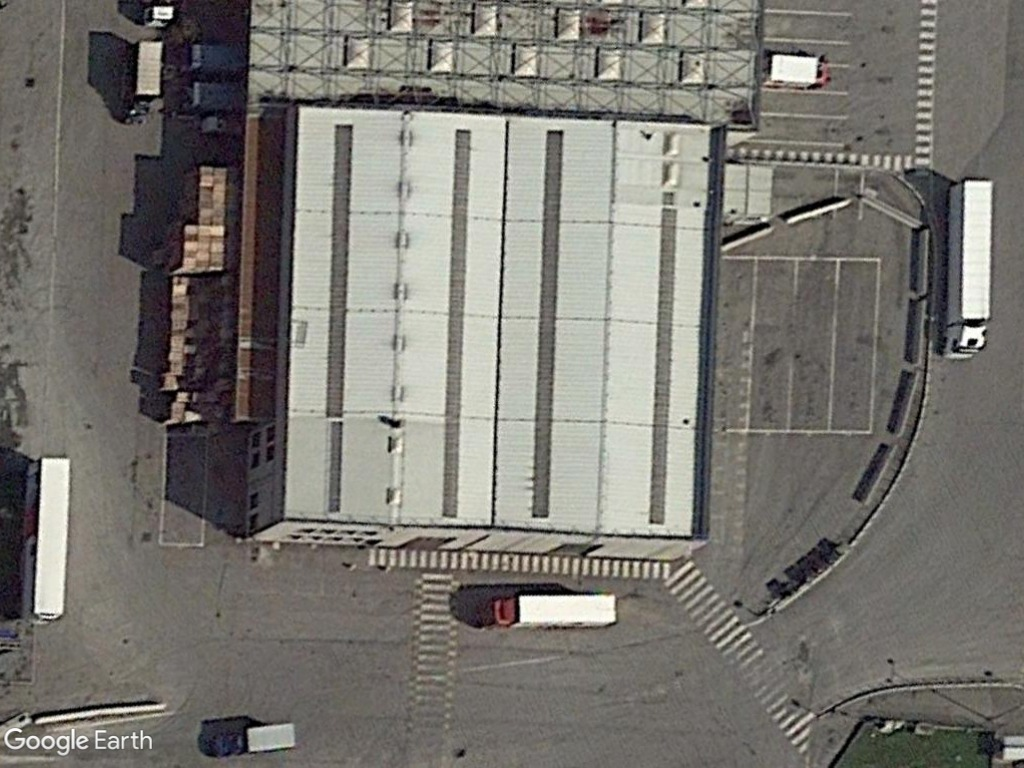bus: (21, 450, 78, 625)
longvehicle: (944, 173, 994, 364), (472, 591, 628, 633), (120, 34, 169, 126), (758, 45, 840, 92)
truck: (205, 720, 302, 764)
